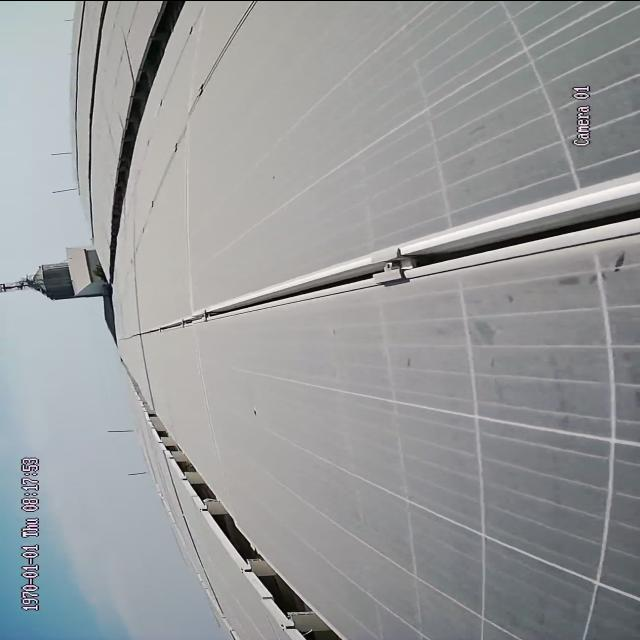interior panel: (145, 179, 639, 336)
outher panel: (140, 394, 346, 640), (109, 2, 190, 269)
